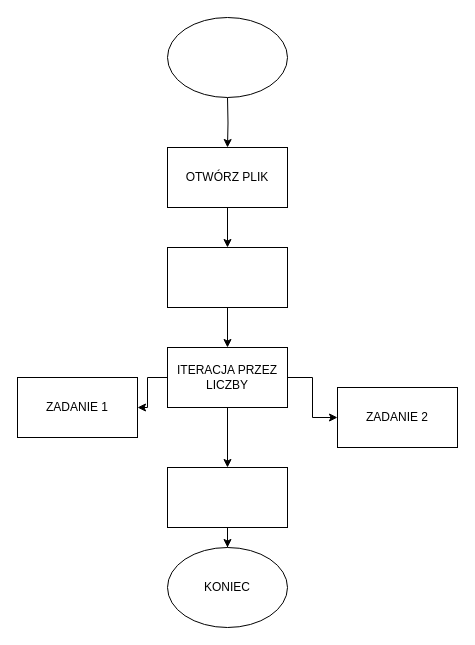
This 475x645 diagram has some shape labels left out. Each missing label, with the centre of its shape:
INICJACJA ZMIENNYCH: [227,277]
START: [227,57]
ZAPISANIE WYNIKU: [227,497]
